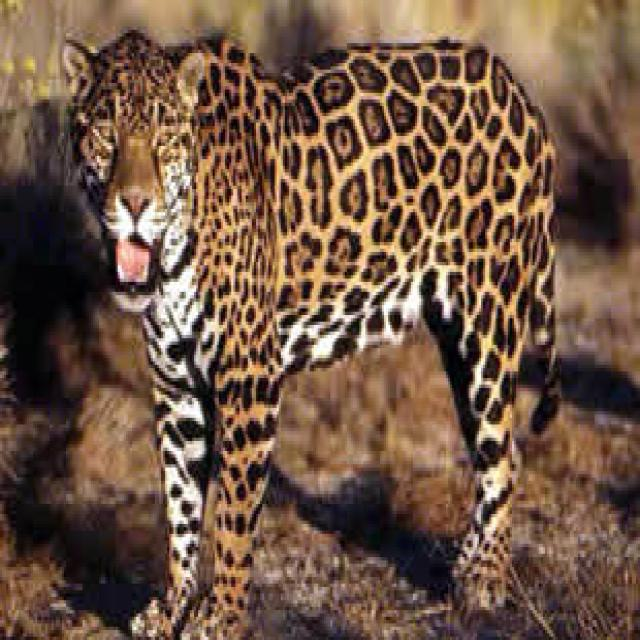Leopard: (56, 26, 564, 634)
